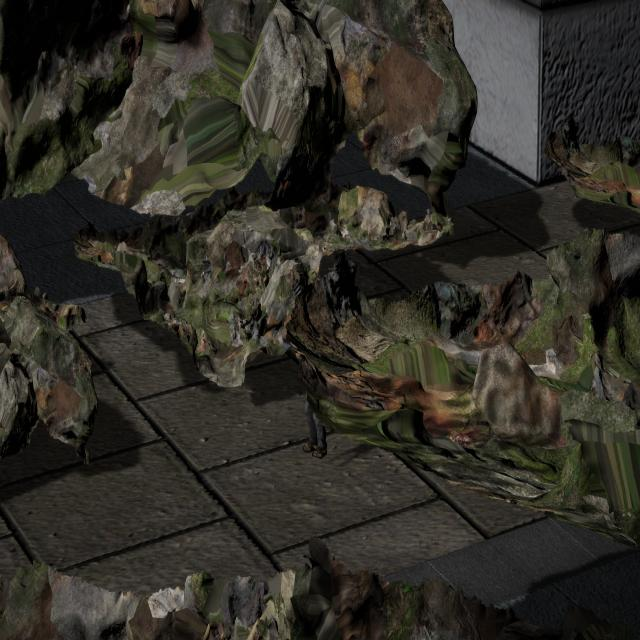Human: (299, 278, 329, 462)
